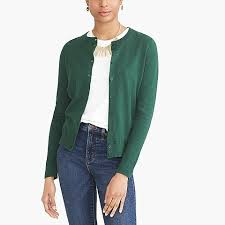C_cardigan sweater: (43, 30, 155, 184)
